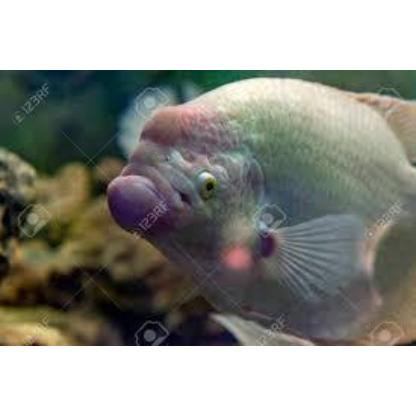gurame: (105, 78, 415, 335)
